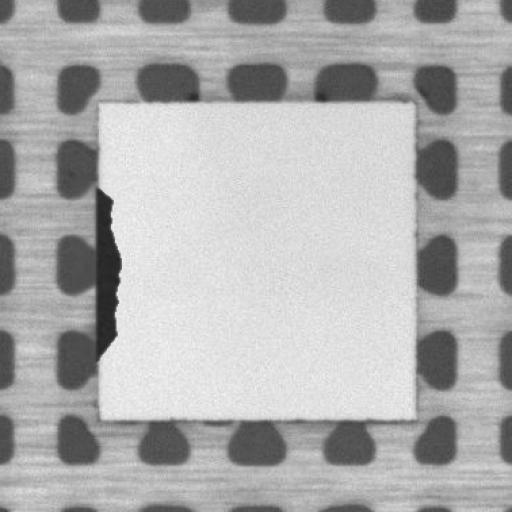DIE_BROKEN: (90, 185, 123, 355)
